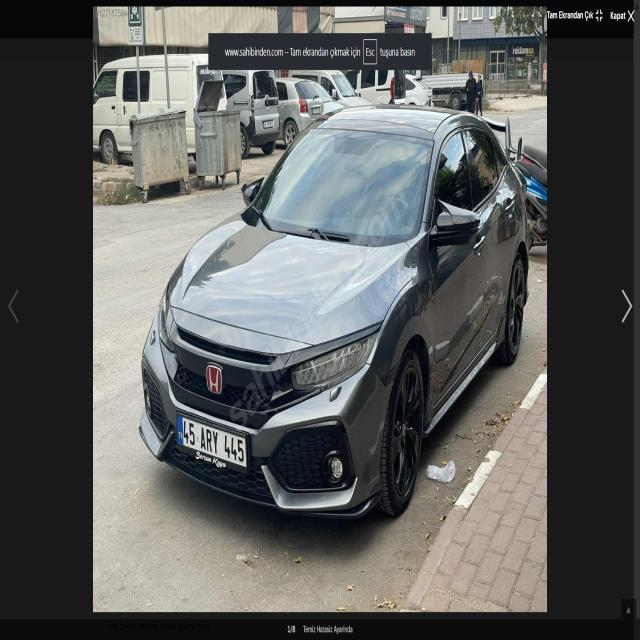honda: (202, 354, 228, 404)
